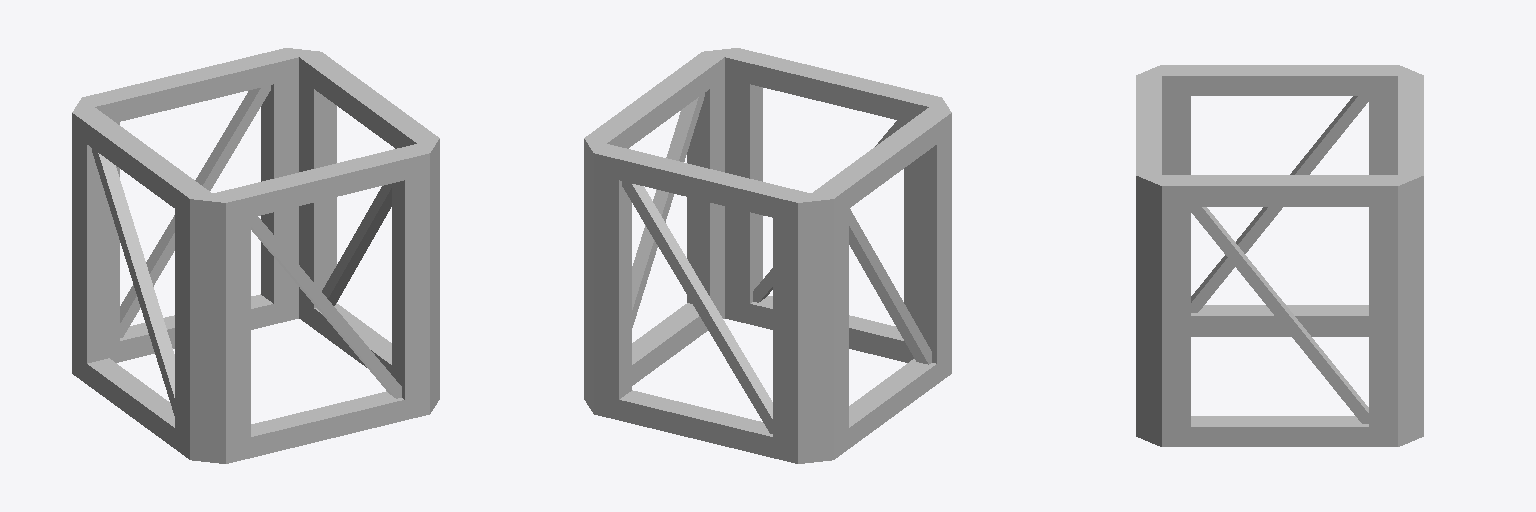
File: metalStructureCross.obj
3 renders of one model, left to right at view 1: azimuth 30°, elevation 25°; view 2: azimuth 150°, elevation 25°; view 3: azimuth 270°, elevation 25°, orthographic.
Parts seen in each view (by area): view 1: metalStructureCross; view 2: metalStructureCross; view 3: metalStructureCross.
Boxes of the visible parts, x1=… form: metalStructureCross: x1=72, y1=48, x2=439, y2=463; metalStructureCross: x1=584, y1=48, x2=951, y2=463; metalStructureCross: x1=1136, y1=65, x2=1423, y2=446.
Bounding box in the file's own units: 10 × 10 × 10.